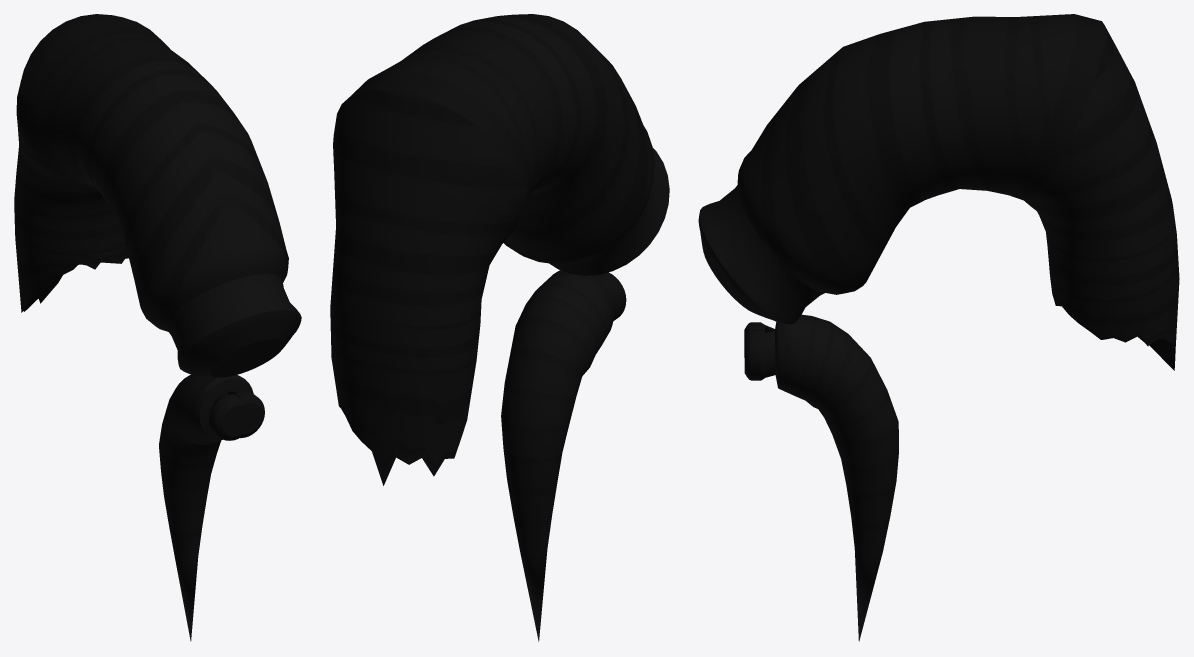
The model's file is DireHornBroken.fbx.
The picture shows the model from 3 angles, left to right: view 1: azimuth 30°, elevation 25°; view 2: azimuth 150°, elevation 25°; view 3: azimuth 270°, elevation 25°; orthographic projection. The views are drawn at different scales.
Parts seen in each view (by area): view 1: Cone; view 2: Cone; view 3: Cone.
Part boxes in pixels (x1,y1,x2,y2): Cone: (14,14,301,641); Cone: (330,14,669,641); Cone: (698,14,1179,641).
Bounding box in the file's own units: 115 × 385 × 271.
